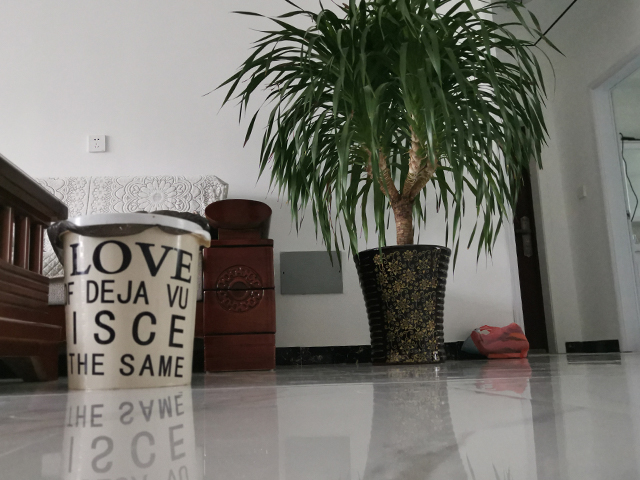sofa: (35, 172, 279, 374)
table: (1, 152, 70, 384)
trashcan: (45, 210, 215, 394)
